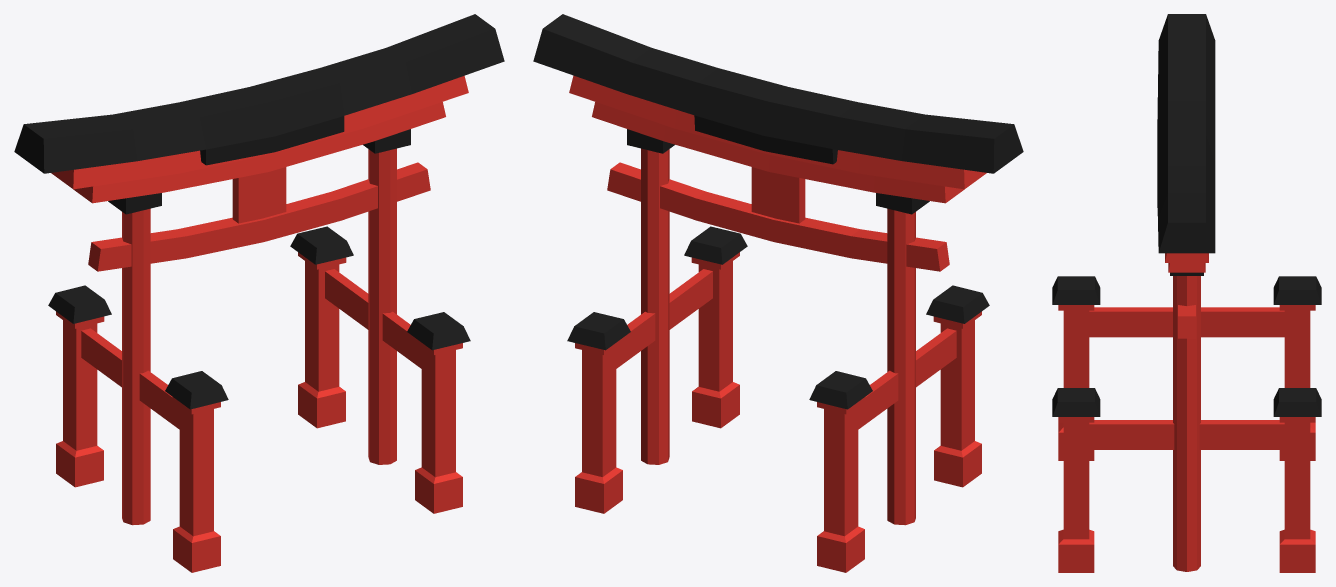
Rendered from torii.fbx.
The picture shows the model from 3 angles, left to right: view 1: azimuth 30°, elevation 25°; view 2: azimuth 150°, elevation 25°; view 3: azimuth 270°, elevation 25°; orthographic projection. The views are drawn at different scales.
Parts seen in each view (by area): view 1: Torii; view 2: Torii; view 3: Torii.
Boxes of the visible parts, x1,y1,x2,y2 form: Torii: [14, 14, 504, 572]; Torii: [533, 14, 1023, 572]; Torii: [1052, 14, 1321, 572].
Bounding box in the file's own units: 1175 × 1009 × 628.
